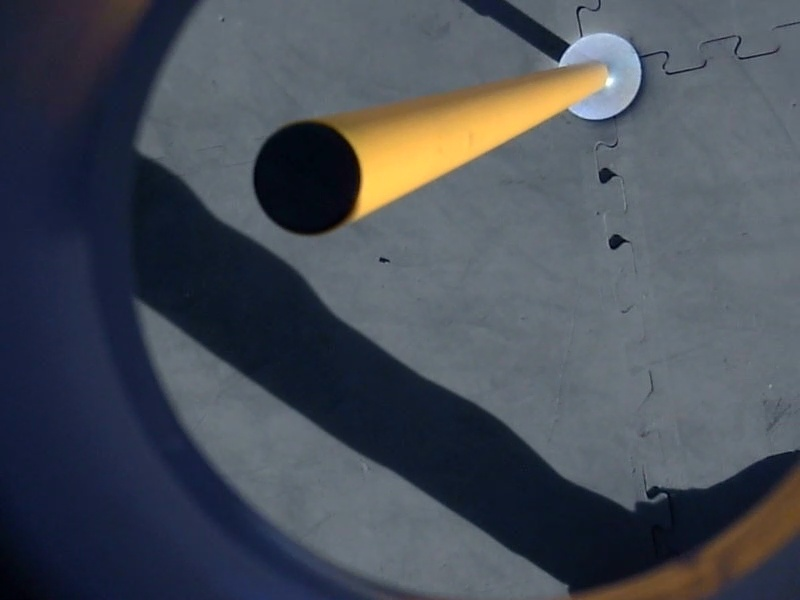tip: (246, 116, 369, 243)
